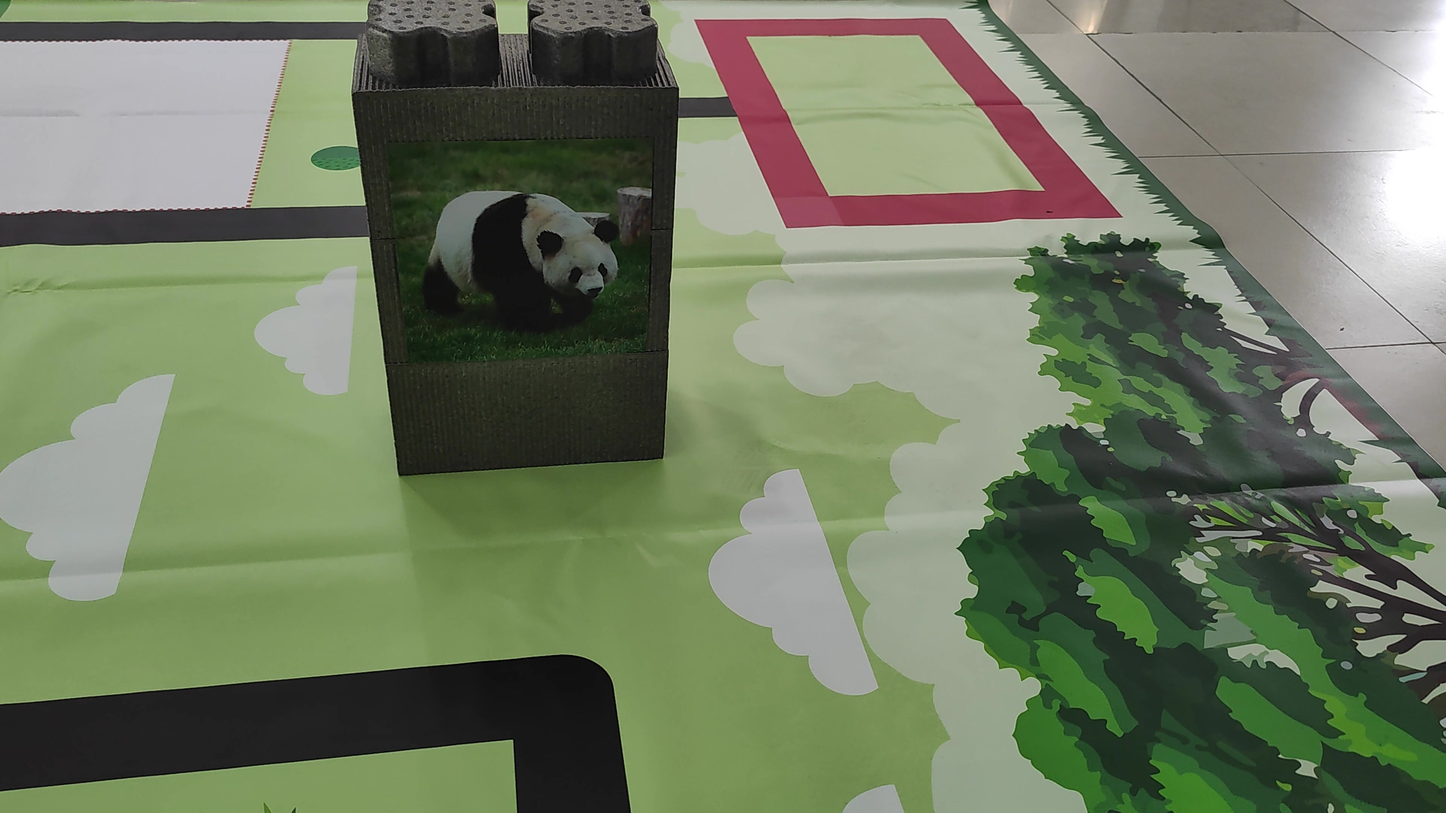panda: (420, 150, 641, 338)
